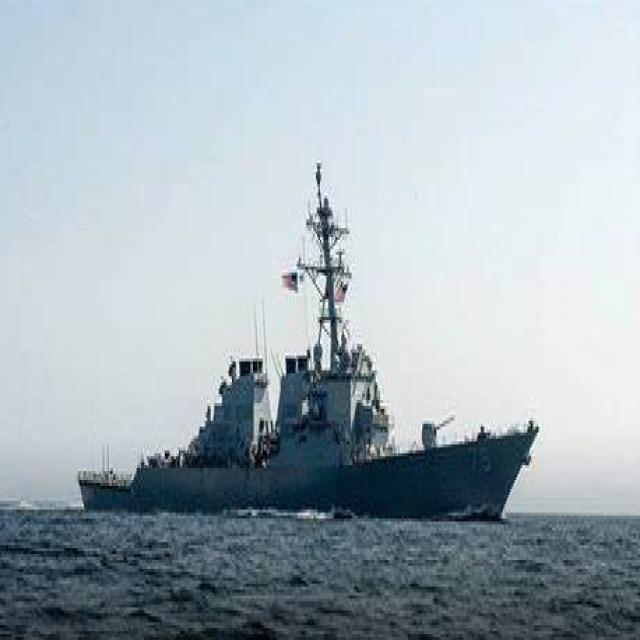navalvessels: (77, 168, 539, 530)
